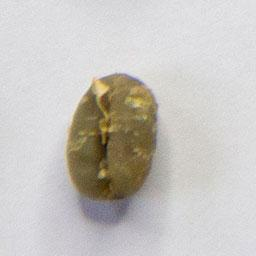peaberry: (63, 69, 162, 204)
